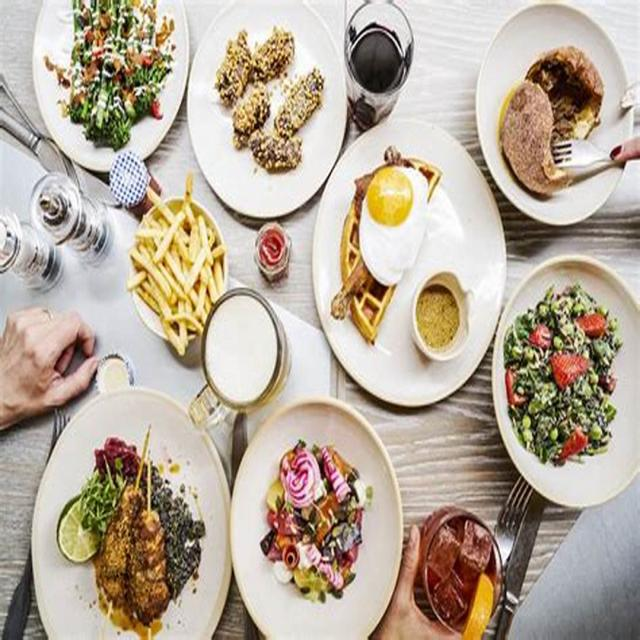heo nuong: (41, 396, 236, 638)
khoai tay chien: (123, 189, 235, 344)
salad: (238, 403, 412, 636), (500, 265, 640, 491), (45, 0, 176, 155)
waffle: (328, 145, 483, 384)
